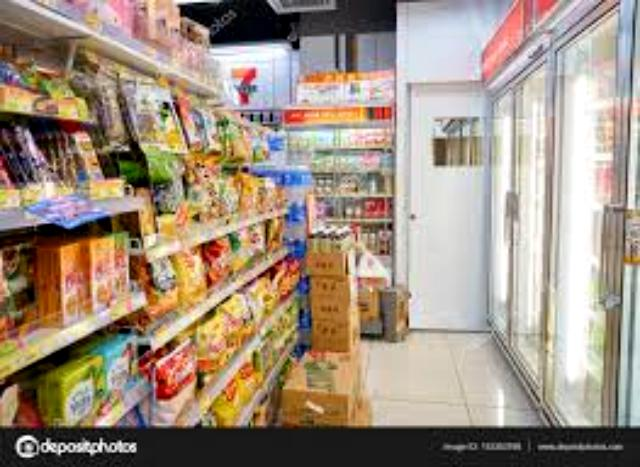background: (0, 1, 640, 424)
